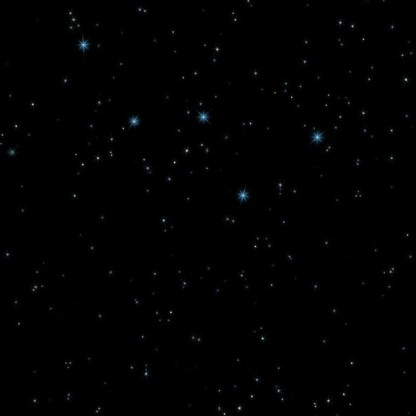Cassiopeia: (229, 182, 265, 219), (121, 104, 152, 136), (298, 120, 327, 149), (184, 100, 214, 126), (71, 33, 96, 56)
